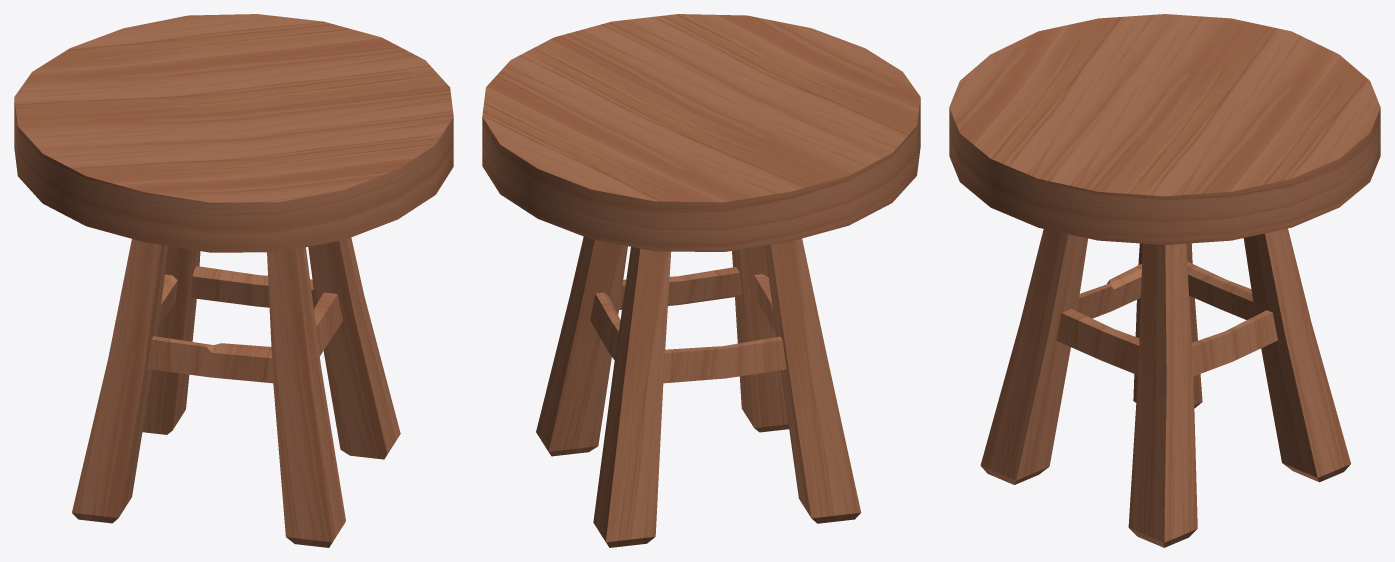
Rendered from chair_02.fbx.
3 renders of one model, left to right at view 1: azimuth 30°, elevation 25°; view 2: azimuth 150°, elevation 25°; view 3: azimuth 270°, elevation 25°, orthographic. The views are drawn at different scales.
Parts seen in each view (by area): view 1: chair_02; view 2: chair_02; view 3: chair_02.
Boxes of the visible parts, box(x1,y1,x2,y2) form: chair_02: box(14, 14, 453, 547); chair_02: box(482, 14, 920, 547); chair_02: box(949, 14, 1380, 547).
Size of the model in its own units: 24.06 by 22.57 by 24.06.
